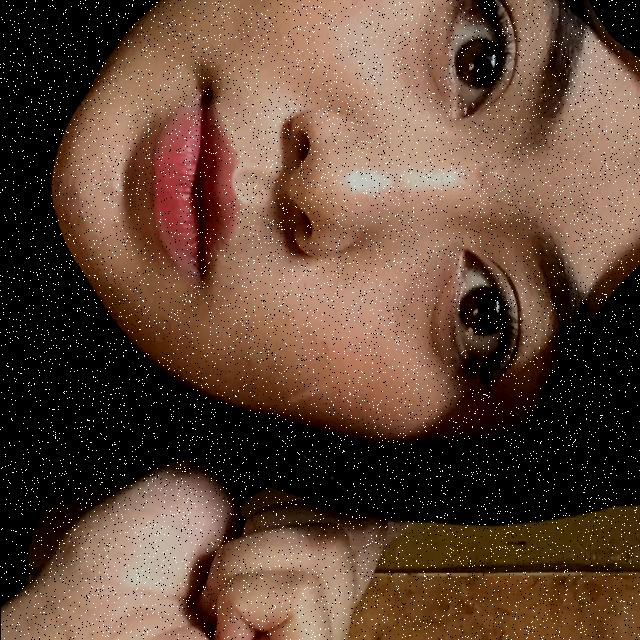ibu: (0, 400, 464, 640)
